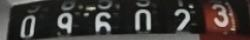digits: (131, 8, 153, 38), (93, 11, 114, 40), (172, 7, 191, 34), (210, 4, 229, 31), (56, 12, 74, 38), (20, 14, 35, 37)
